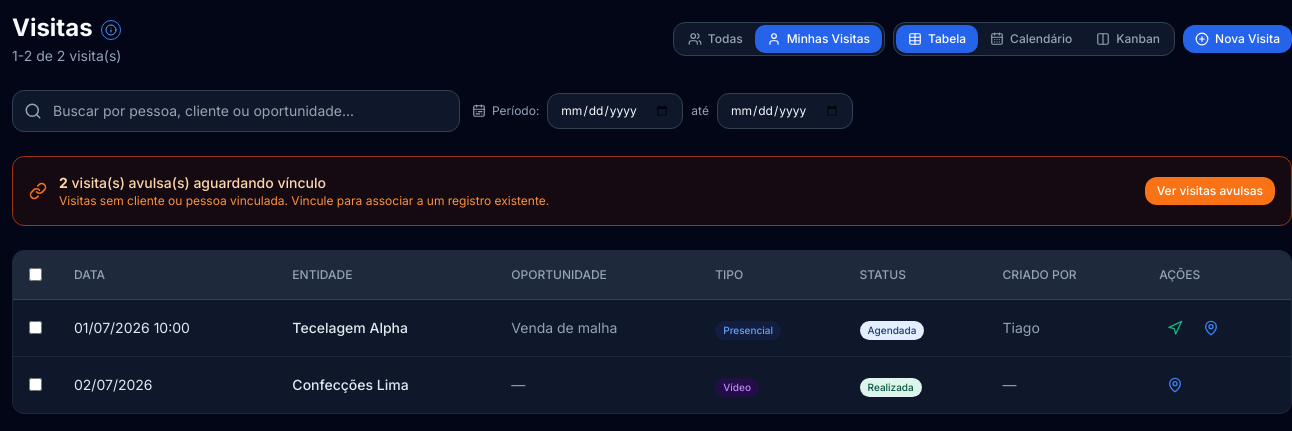
VisitasPage › busca com debounce e filtra no servidor
This screenshot has width=1292, height=431.
expect the link "Tecelagem Alpha" is shown: met, box [292,319,408,336]
Type "Tecelagem" into the field with placeholder "Buscar por pessoa, cliente ou oportunidade..." at (236, 111), box [12,90,460,132]
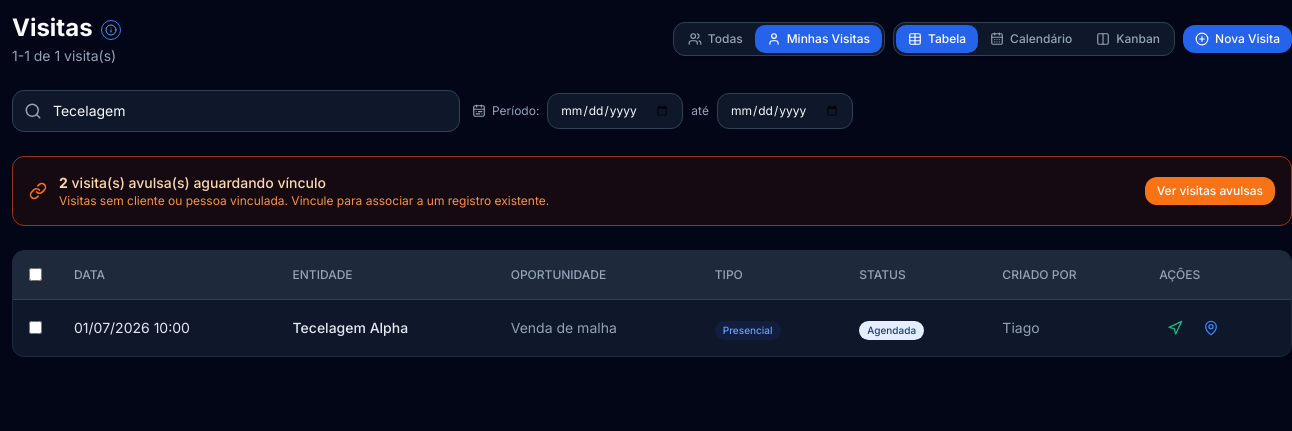
expect the link "Tecelagem Alpha" is shown: met, box [292,319,408,336]
expect the link "Confecções Lima" is gone: met
